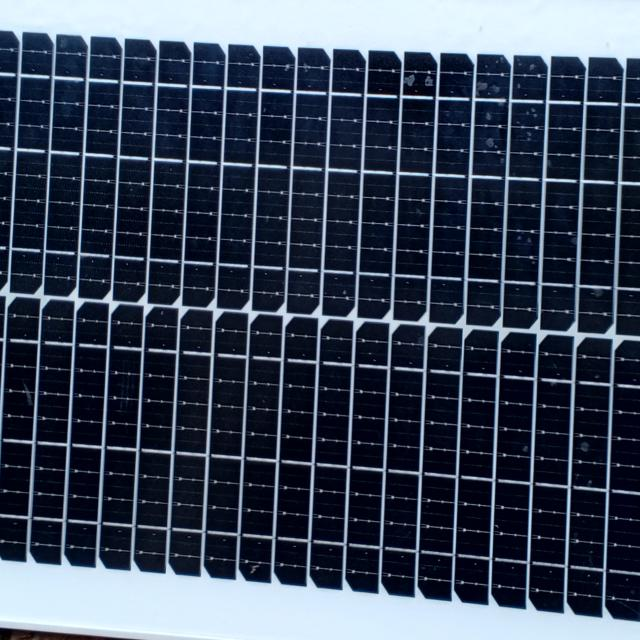Clean: (4, 10, 640, 631)
